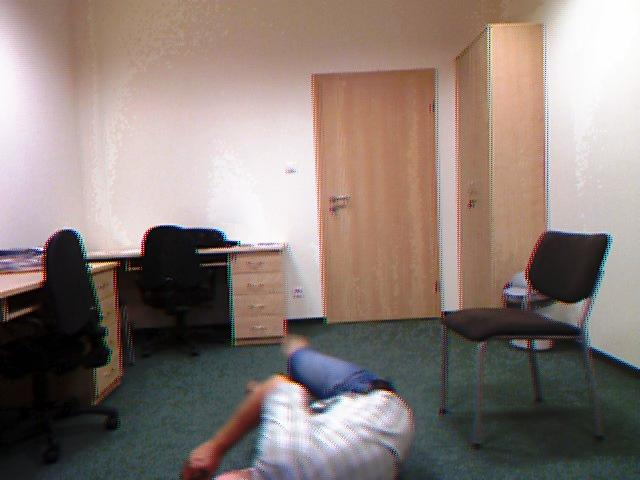fall: (182, 375, 414, 479), (281, 335, 309, 364)
